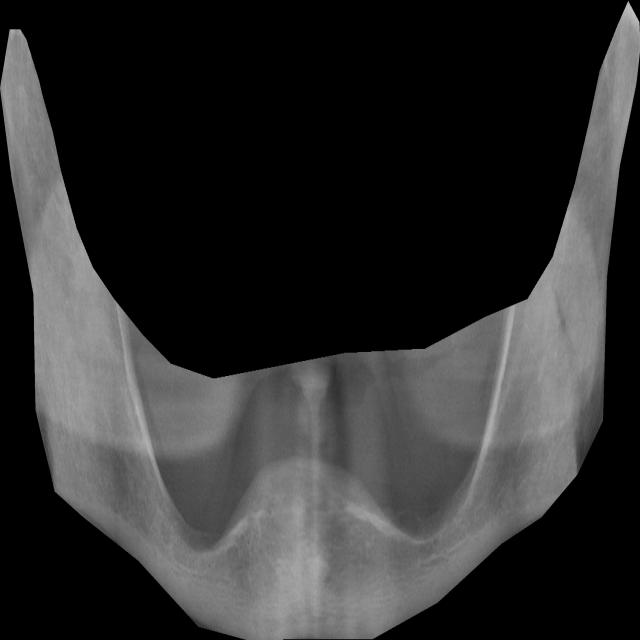mandibula: (0, 1, 640, 640)
